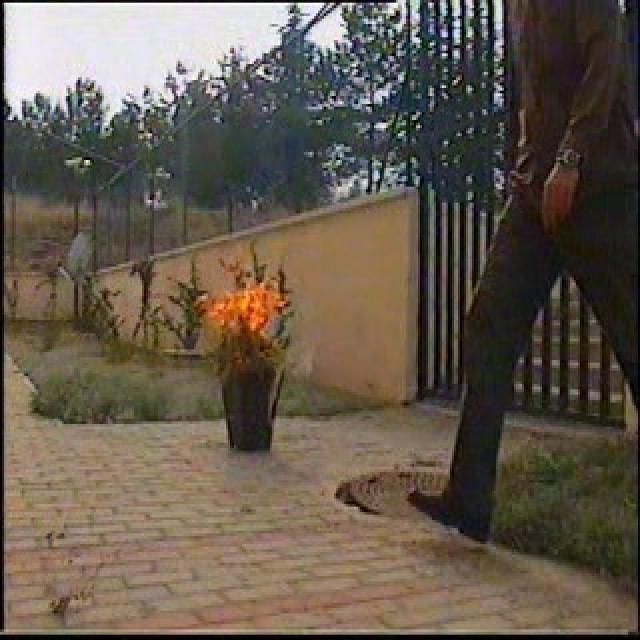Fire: (212, 268, 282, 345)
